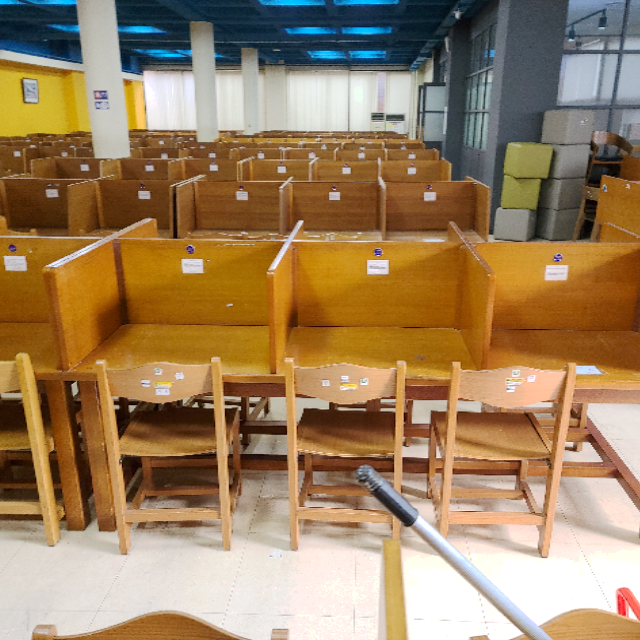empty: (70, 232, 270, 434), (279, 233, 486, 423), (497, 231, 640, 422)
